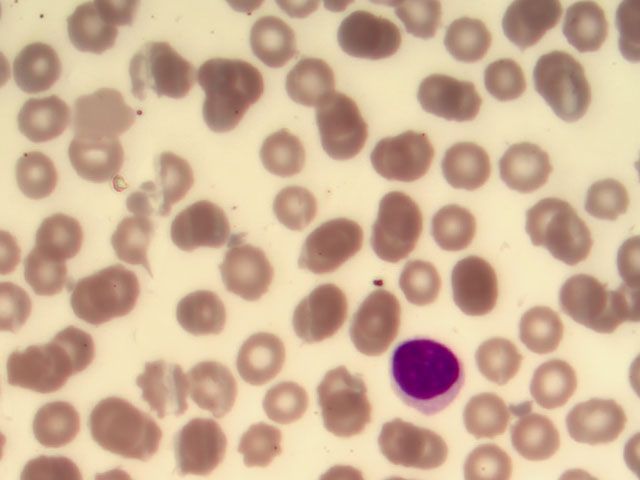RBC: (4, 40, 58, 92), (65, 6, 119, 58), (121, 46, 175, 98), (198, 49, 252, 101), (201, 88, 255, 140), (73, 130, 127, 182), (71, 89, 125, 141), (18, 91, 72, 143), (9, 145, 63, 197), (32, 203, 86, 255), (25, 246, 79, 298), (63, 276, 117, 328), (93, 263, 147, 315), (103, 209, 157, 261), (140, 149, 194, 201), (167, 196, 221, 248), (219, 249, 273, 301), (183, 287, 237, 339), (235, 330, 289, 382), (189, 358, 243, 410), (137, 359, 191, 411), (88, 398, 142, 450), (31, 398, 85, 450), (3, 343, 57, 395), (41, 328, 95, 380), (183, 419, 237, 471), (232, 417, 286, 469), (253, 386, 307, 438), (325, 391, 379, 443), (316, 357, 370, 409), (345, 304, 399, 356), (291, 286, 345, 338), (299, 217, 353, 269), (265, 182, 319, 234), (260, 129, 314, 181), (325, 114, 379, 166), (318, 91, 372, 143), (274, 52, 328, 104), (253, 21, 307, 73), (329, 4, 383, 56), (361, 14, 415, 66), (423, 68, 477, 120), (377, 130, 431, 182), (443, 143, 497, 195), (374, 186, 428, 238), (364, 218, 418, 270), (427, 204, 481, 256), (394, 255, 448, 307), (459, 260, 513, 312), (518, 198, 572, 250), (545, 221, 599, 273), (502, 140, 556, 192), (476, 58, 530, 110), (440, 11, 494, 63), (531, 38, 585, 90), (539, 66, 593, 118), (494, 4, 548, 56), (558, 1, 612, 53), (548, 273, 602, 325), (513, 308, 567, 360), (473, 329, 527, 381), (458, 390, 512, 442), (378, 424, 432, 476), (455, 428, 509, 480), (507, 409, 561, 461), (532, 353, 586, 405), (565, 389, 619, 441), (586, 174, 640, 226), (1, 276, 32, 332)
WBC: (392, 335, 466, 409)
